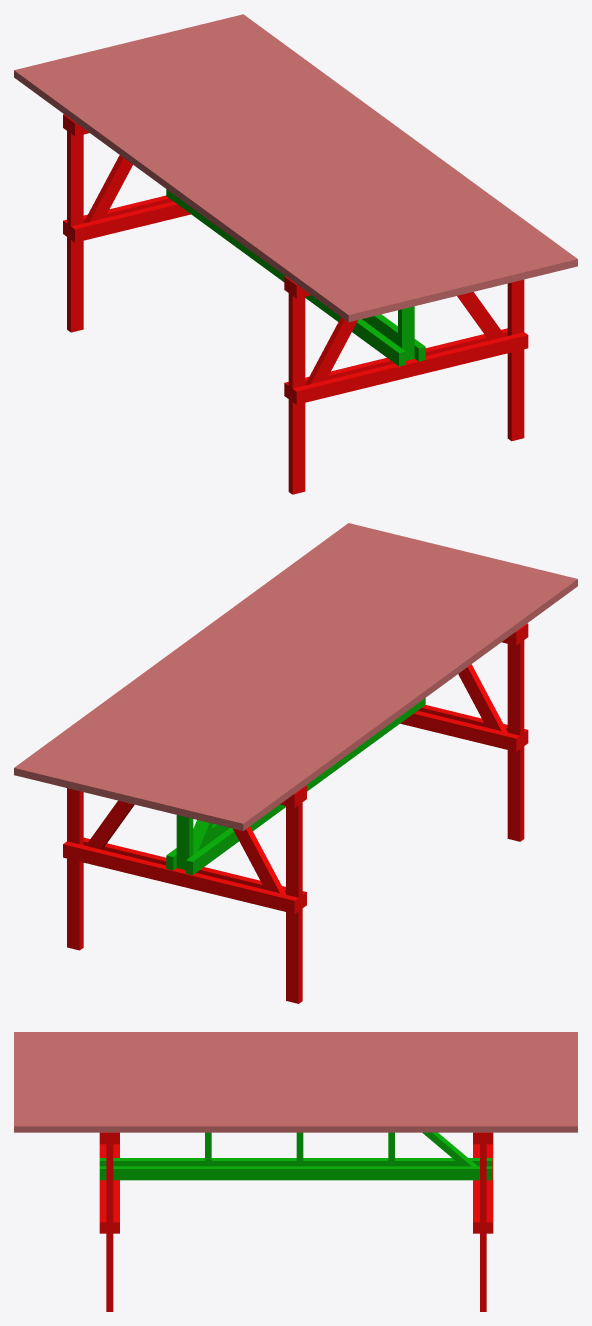
File: result.glb
3 views of the same model, one above another, from view 1: azimuth 30°, elevation 25°; view 2: azimuth 150°, elevation 25°; view 3: azimuth 270°, elevation 25° (orthographic). The views are drawn at different scales.
Parts seen in each view (by area): view 1: 8bf2db40-9d1d-47df-9a24-3dfc9592f0e7__Box, bdeda9d7-3b63-48af-a188-70148c04ed99__undefined, 6baf1138-7e19-488f-8c5b-8986dc908ab4__undefined, 77f8db9d-971c-4d8c-827d-af09b8b160d5__undefined, fecec819-3aaa-4b82-ba04-d9688310ba91__undefined, cdabe82e-f693-49f8-b37f-8b1c98418174__undefined, d5871946-b2a6-47e5-8f06-08d200acdffb__undefined, 8f9210d2-165d-44ab-b6d5-51f49d5d9d94__undefined, 6edde1f5-e822-49da-b430-9071073bb8aa__undefined, 93171d2d-67fa-4d74-a555-4f7c14a1b3a5__undefined, 6119fe9f-4ede-411d-9f5d-43fe979f2a68__undefined, 529cfca9-82b6-4242-ac17-d0cf860344ba__undefined (+19 smaller); view 2: 8bf2db40-9d1d-47df-9a24-3dfc9592f0e7__Box, 77f8db9d-971c-4d8c-827d-af09b8b160d5__undefined, cdabe82e-f693-49f8-b37f-8b1c98418174__undefined, 6baf1138-7e19-488f-8c5b-8986dc908ab4__undefined, 6edde1f5-e822-49da-b430-9071073bb8aa__undefined, bdeda9d7-3b63-48af-a188-70148c04ed99__undefined, fecec819-3aaa-4b82-ba04-d9688310ba91__undefined, d5871946-b2a6-47e5-8f06-08d200acdffb__undefined, 8f9210d2-165d-44ab-b6d5-51f49d5d9d94__undefined, 529cfca9-82b6-4242-ac17-d0cf860344ba__undefined, c7297487-f574-4098-8fc9-861eab10ceb2__undefined, ec69fd5d-4958-4937-84d8-4067cddff09e__undefined (+18 smaller); view 3: c755bd55-24e2-4522-b0c1-adc6b80515ae__undefined, 10f4e5f4-305d-43c9-b91f-19e5712c3a7e__strutH, 8bf2db40-9d1d-47df-9a24-3dfc9592f0e7__Box, 6119fe9f-4ede-411d-9f5d-43fe979f2a68__undefined, e9ec4a75-41d4-48fe-a5c1-c5d51e7dd544__undefined, 6edde1f5-e822-49da-b430-9071073bb8aa__undefined, 77f8db9d-971c-4d8c-827d-af09b8b160d5__undefined, 529cfca9-82b6-4242-ac17-d0cf860344ba__undefined, 682b74a7-494d-49f6-bbb3-c12eeee8a78e__undefined, bdeda9d7-3b63-48af-a188-70148c04ed99__undefined, fecec819-3aaa-4b82-ba04-d9688310ba91__undefined, c7297487-f574-4098-8fc9-861eab10ceb2__undefined (+15 smaller).
Boxes of the visible parts, x1,y1,x2,y2 form: 8bf2db40-9d1d-47df-9a24-3dfc9592f0e7__Box: (14,67,361,322); bdeda9d7-3b63-48af-a188-70148c04ed99__undefined: (103,45,450,300); 6baf1138-7e19-488f-8c5b-8986dc908ab4__undefined: (205,20,552,275); 77f8db9d-971c-4d8c-827d-af09b8b160d5__undefined: (65,54,412,309); fecec819-3aaa-4b82-ba04-d9688310ba91__undefined: (116,42,463,297); cdabe82e-f693-49f8-b37f-8b1c98418174__undefined: (154,33,501,287); d5871946-b2a6-47e5-8f06-08d200acdffb__undefined: (167,30,514,284); 8f9210d2-165d-44ab-b6d5-51f49d5d9d94__undefined: (218,17,565,272); 6edde1f5-e822-49da-b430-9071073bb8aa__undefined: (53,58,399,312); 93171d2d-67fa-4d74-a555-4f7c14a1b3a5__undefined: (193,23,539,278); 6119fe9f-4ede-411d-9f5d-43fe979f2a68__undefined: (27,64,373,318); 529cfca9-82b6-4242-ac17-d0cf860344ba__undefined: (78,51,424,306); 8bf2db40-9d1d-47df-9a24-3dfc9592f0e7__Box: (230,576,577,830); 77f8db9d-971c-4d8c-827d-af09b8b160d5__undefined: (179,563,526,818); cdabe82e-f693-49f8-b37f-8b1c98418174__undefined: (90,541,437,796); 6baf1138-7e19-488f-8c5b-8986dc908ab4__undefined: (39,529,386,784); 6edde1f5-e822-49da-b430-9071073bb8aa__undefined: (192,566,539,821); bdeda9d7-3b63-48af-a188-70148c04ed99__undefined: (141,554,488,809); fecec819-3aaa-4b82-ba04-d9688310ba91__undefined: (128,551,475,805); d5871946-b2a6-47e5-8f06-08d200acdffb__undefined: (77,538,424,793); 8f9210d2-165d-44ab-b6d5-51f49d5d9d94__undefined: (26,526,373,780); 529cfca9-82b6-4242-ac17-d0cf860344ba__undefined: (167,560,513,815); c7297487-f574-4098-8fc9-861eab10ceb2__undefined: (116,548,462,802); ec69fd5d-4958-4937-84d8-4067cddff09e__undefined: (103,545,449,799); c755bd55-24e2-4522-b0c1-adc6b80515ae__undefined: (14,1121,577,1132); 10f4e5f4-305d-43c9-b91f-19e5712c3a7e__strutH: (99,1166,492,1180); 8bf2db40-9d1d-47df-9a24-3dfc9592f0e7__Box: (14,1032,577,1037); 6119fe9f-4ede-411d-9f5d-43fe979f2a68__undefined: (14,1037,577,1042); e9ec4a75-41d4-48fe-a5c1-c5d51e7dd544__undefined: (14,1042,577,1047); 6edde1f5-e822-49da-b430-9071073bb8aa__undefined: (14,1047,577,1052); 77f8db9d-971c-4d8c-827d-af09b8b160d5__undefined: (14,1053,577,1058); 529cfca9-82b6-4242-ac17-d0cf860344ba__undefined: (14,1058,577,1063); 682b74a7-494d-49f6-bbb3-c12eeee8a78e__undefined: (14,1063,577,1068); bdeda9d7-3b63-48af-a188-70148c04ed99__undefined: (14,1068,577,1073); fecec819-3aaa-4b82-ba04-d9688310ba91__undefined: (14,1074,577,1079); c7297487-f574-4098-8fc9-861eab10ceb2__undefined: (14,1079,577,1084).
Bounding box in the file's own units: 800 × 724 × 2000.
